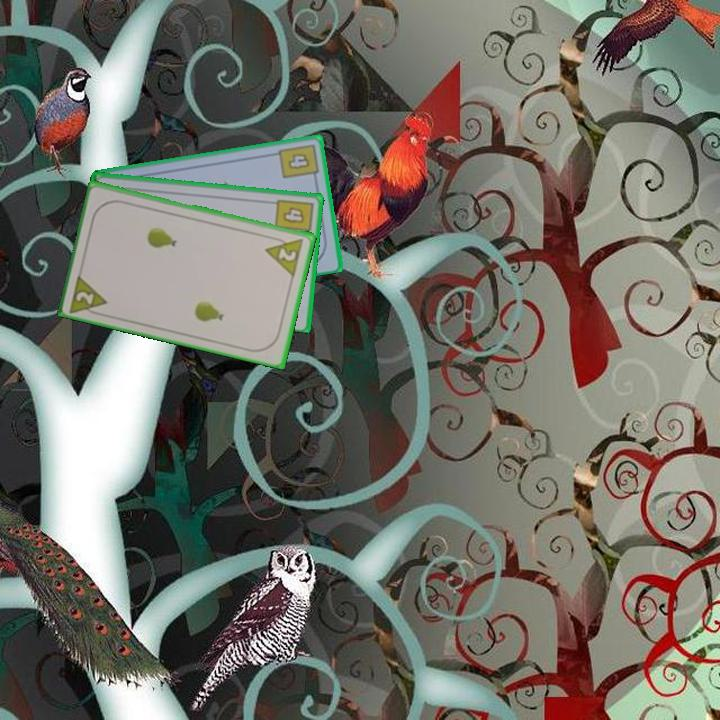2p: (262, 232, 307, 278), (67, 270, 111, 317)
4b: (271, 195, 316, 241), (275, 140, 321, 184)
